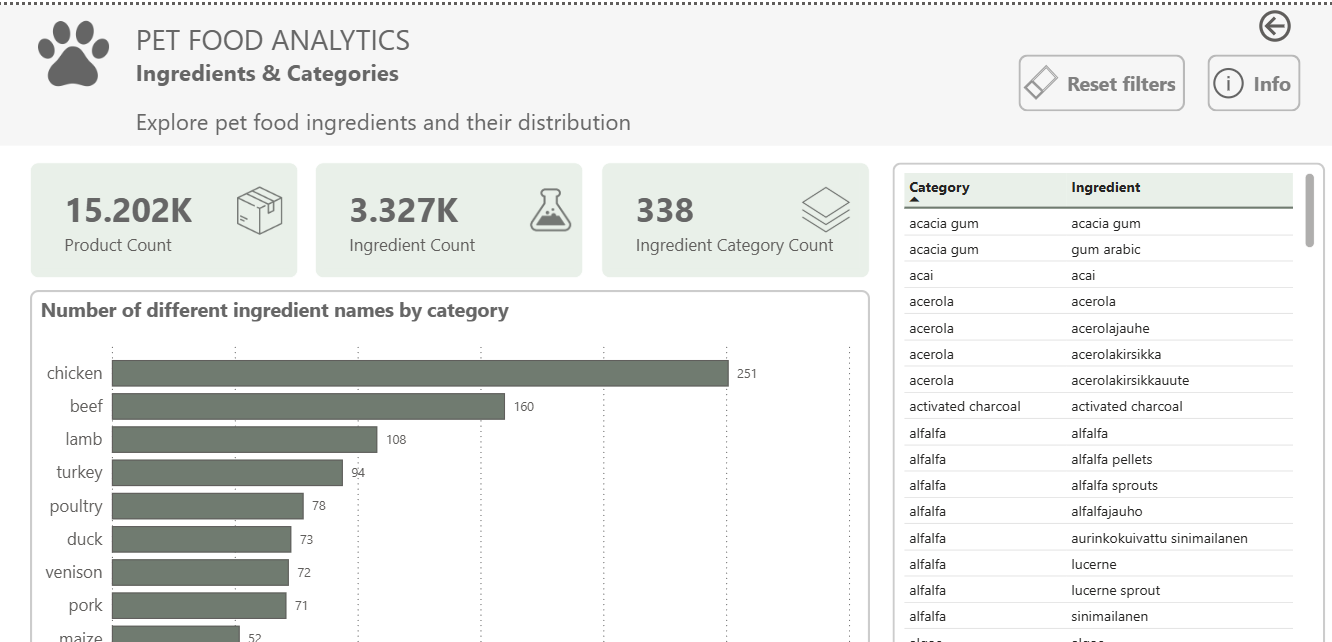

This screenshot's page, from the dashboard's own definition file:
{"tool":"powerbi","page":{"name":"Ingredients & Categories","canvas":[1280,720],"ordinal":2},"visuals":[{"type":"shape","box":[0,0,1280,134],"z":0},{"type":"cardVisual","fields":{"Data":["Count(dim_ingredients.category)"]},"box":[573.3,150,255,110],"z":1000,"group":"g3"},{"type":"clusteredBarChart","title":"Number of different ingredient names by category","fields":{"Category":["dim_ingredients.category"],"Y":["dim_ingredients.Koostisosade_arv"]},"box":[28.3,271.7,800,423.3],"z":1000},{"type":"tableEx","fields":{"Values":["dim_ingredients.category","dim_ingredients.ingredient"]},"box":[850,150,411.7,545],"z":2000},{"type":"textbox","box":[124,9,1156,125],"z":3000},{"type":"actionButton","box":[1150,47.1,88.6,54.3],"z":4000},{"type":"actionButton","box":[970,47.1,158.6,54.3],"z":5000},{"type":"actionButton","box":[1194.3,0,44.3,40],"z":6000},{"type":"image","box":[15,9,108.3,75],"z":7000},{"type":"group","id":"g1","title":"Group 1","box":[28.3,150,255,110],"z":8000},{"type":"group","id":"g2","title":"Group 2","box":[300,149,273,111],"z":9000},{"type":"cardVisual","fields":{"Data":["Count(dim_ingredients.ingredient)"]},"box":[300,150,255,110],"z":9000,"group":"g2"},{"type":"cardVisual","fields":{"Data":["CountNonNull(dim_products.product_id)"]},"box":[28.3,150,255,110],"z":10000,"group":"g1"},{"type":"group","id":"g3","title":"Group 3","box":[573.3,150,255,110],"z":10000},{"type":"image","box":[755,169,66,52],"z":13000,"group":"g3"},{"type":"image","box":[224.3,162.9,45.7,65.7],"z":13500,"group":"g1"},{"type":"image","box":[477,149,96,94],"z":14001,"group":"g2"}]}

Visuals, with their boxes on the page's 1280x720 design canvas (x1, y1, x2, y2). These are canvas units, not pixel positions in the 1332x642 screenshot, which may show the page scaled, cropped or inside an application window:
shape: bbox=[0, 0, 1280, 134]
cardVisual - Count(dim_ingredients.category): bbox=[573, 150, 828, 260]
"Number of different ingredient names by category" clusteredBarChart: bbox=[28, 272, 828, 695]
tableEx - dim_ingredients.category x dim_ingredients.ingredient: bbox=[850, 150, 1262, 695]
textbox: bbox=[124, 9, 1280, 134]
actionButton: bbox=[1150, 47, 1239, 101]
actionButton: bbox=[970, 47, 1129, 101]
actionButton: bbox=[1194, 0, 1239, 40]
image: bbox=[15, 9, 123, 84]
"Group 1" group: bbox=[28, 150, 283, 260]
"Group 2" group: bbox=[300, 149, 573, 260]
cardVisual - Count(dim_ingredients.ingredient): bbox=[300, 150, 555, 260]
cardVisual - CountNonNull(dim_products.product_id): bbox=[28, 150, 283, 260]
"Group 3" group: bbox=[573, 150, 828, 260]
image: bbox=[755, 169, 821, 221]
image: bbox=[224, 163, 270, 229]
image: bbox=[477, 149, 573, 243]
